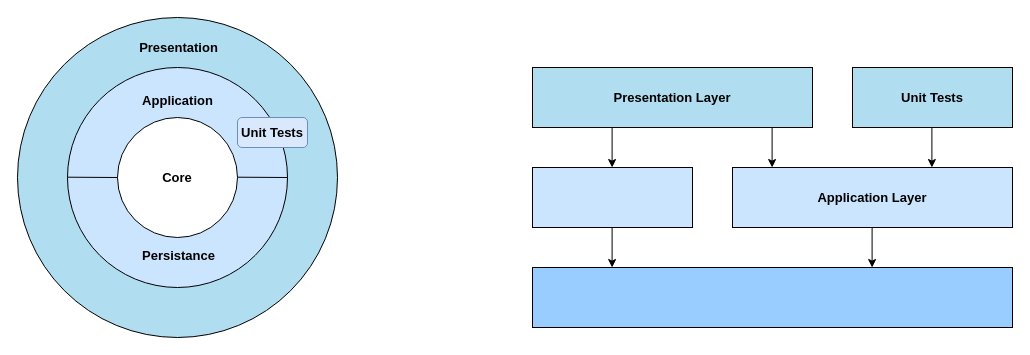
The diagram is 1030 pixels wide and 355 high, and some of its shapes have lost their labels. Each missing label, with the centre of its shape:
Core Layer: the point at 772,297
Persistance Layer: the point at 612,197
